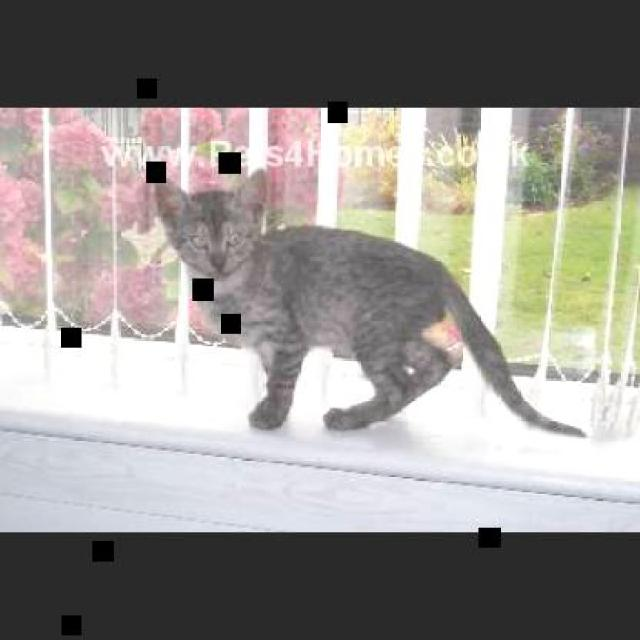unauthorized: (152, 168, 588, 438)
